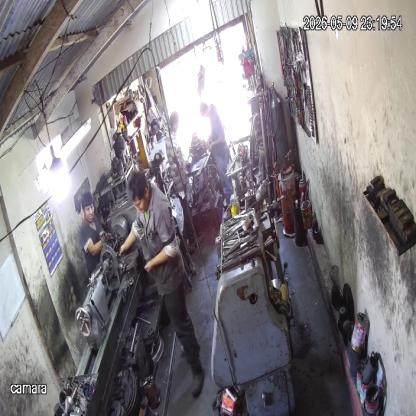sin_lentes: (84, 204, 95, 213)
